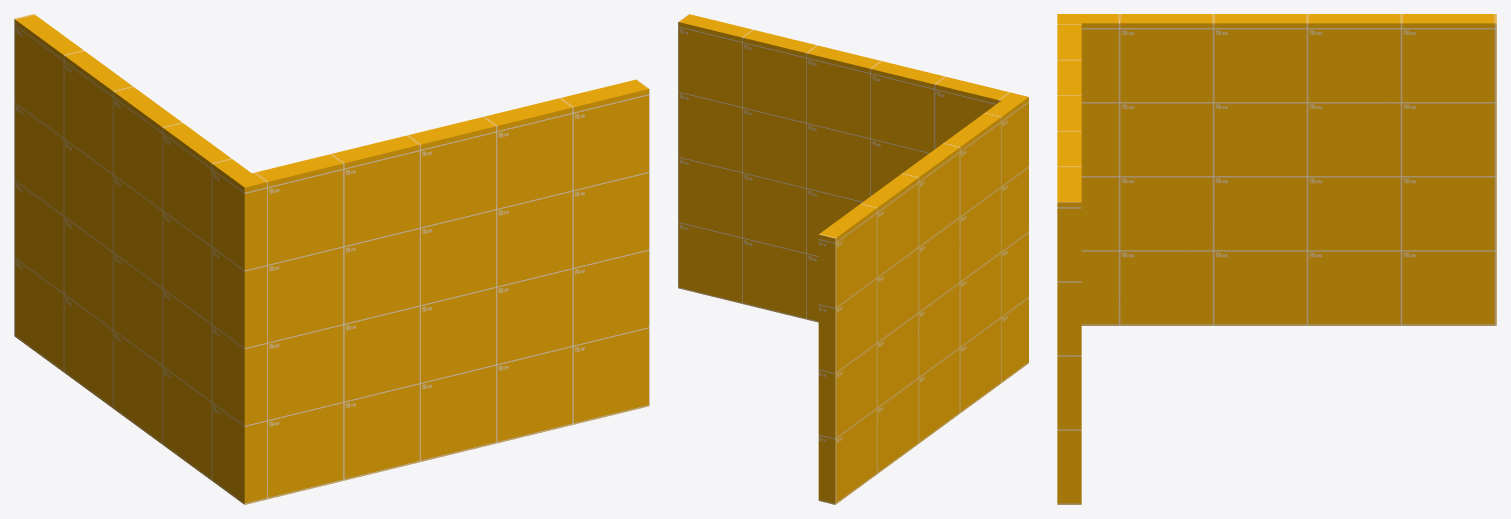
Rendered from WallCorner.fbx.
3 views of the same model, side by side, from view 1: azimuth 30°, elevation 25°; view 2: azimuth 150°, elevation 25°; view 3: azimuth 270°, elevation 25° (orthographic). The views are drawn at different scales.
Visible parts, largest first — view 1: WallCorner; view 2: WallCorner; view 3: WallCorner.
Part boxes in pixels (x1,y1,x2,y2): WallCorner: [14, 14, 649, 504]; WallCorner: [678, 14, 1028, 504]; WallCorner: [1057, 14, 1496, 504].
Bounding box in the file's own units: 28 × 20.96 × 27.6.
